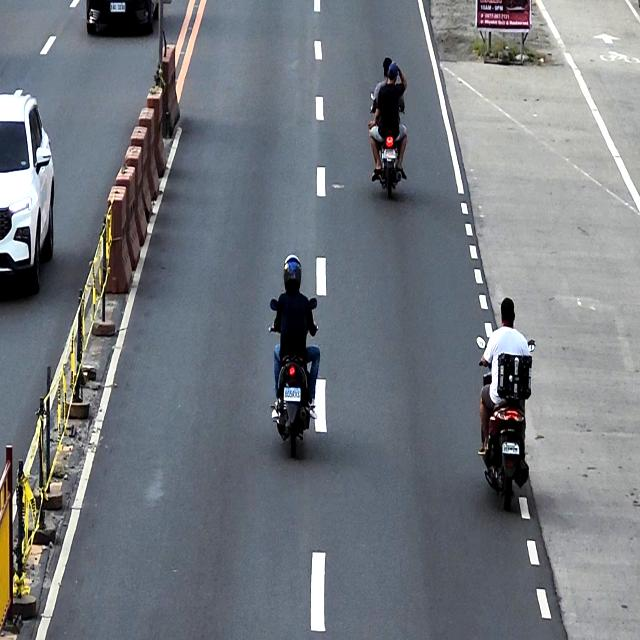Car: (0, 92, 55, 300), (84, 0, 161, 33)
License-Plate: (284, 387, 301, 401), (503, 443, 519, 455), (382, 148, 396, 160), (110, 2, 126, 12)
Motorcycle: (476, 334, 536, 519), (270, 294, 318, 463), (370, 91, 405, 199)
